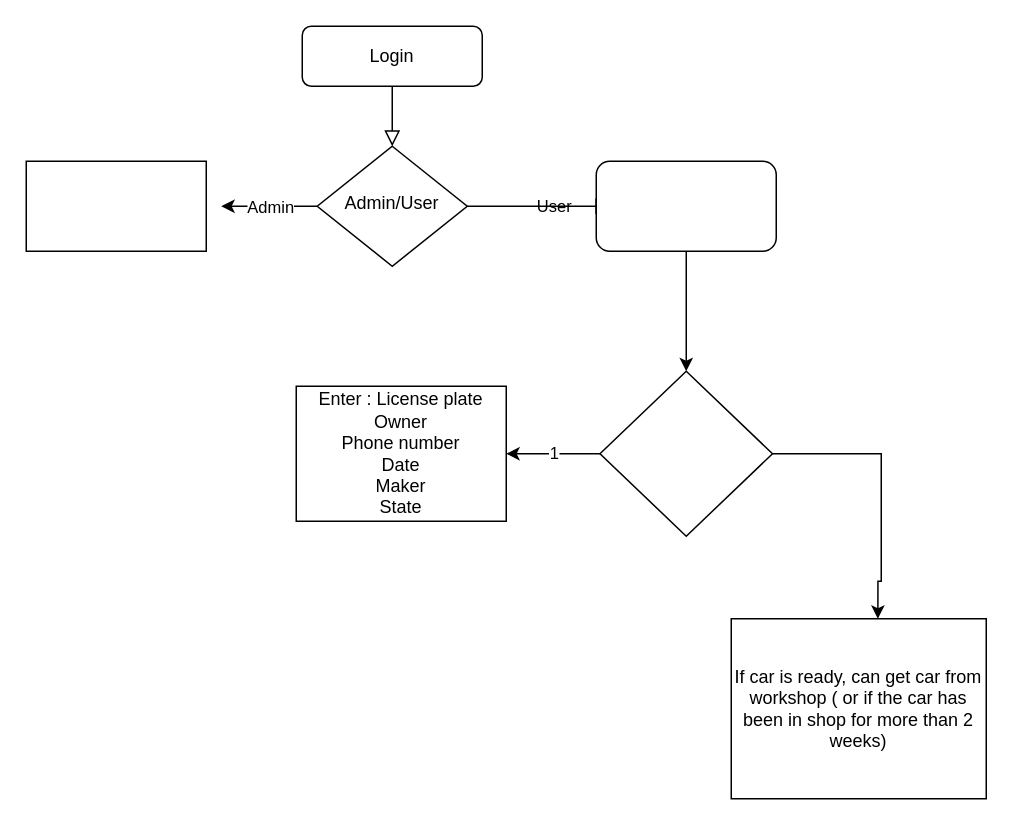
This 1013x825 diagram has some shape labels left out. The shapes that lost their labels are listed below. From the top down, each one's centre as x and y in pixels, then its label:
point (115, 205): Can change state of all cars, edit the date
point (685, 205): New Tab + Optiuni 1. Add car 2. Get car from worksshop
